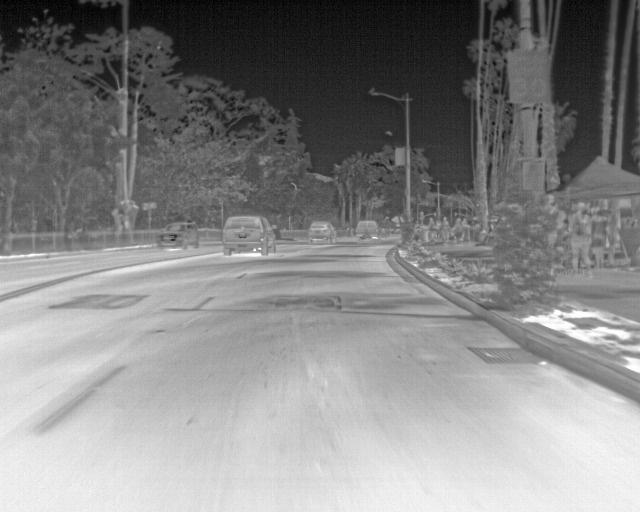bicycle: (222, 214, 280, 254), (156, 221, 201, 250), (307, 222, 337, 244), (354, 219, 381, 242)
empty: (565, 198, 595, 272)
